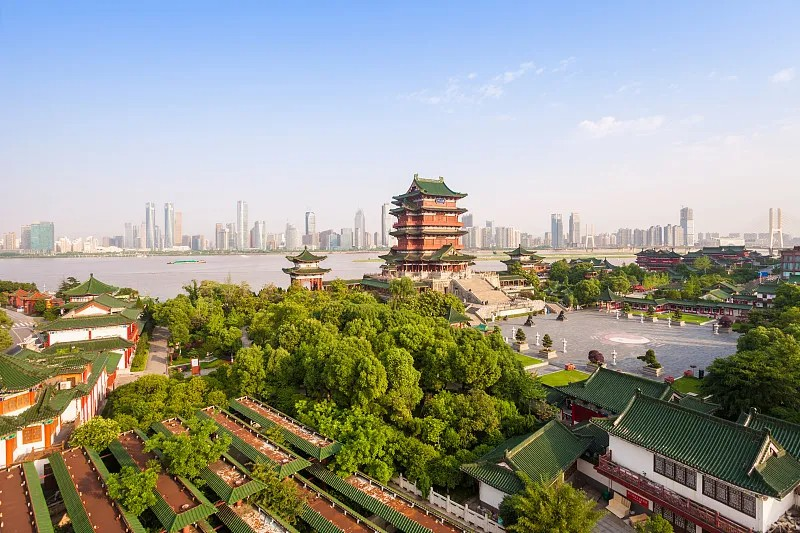Teng: (378, 173, 478, 274)
